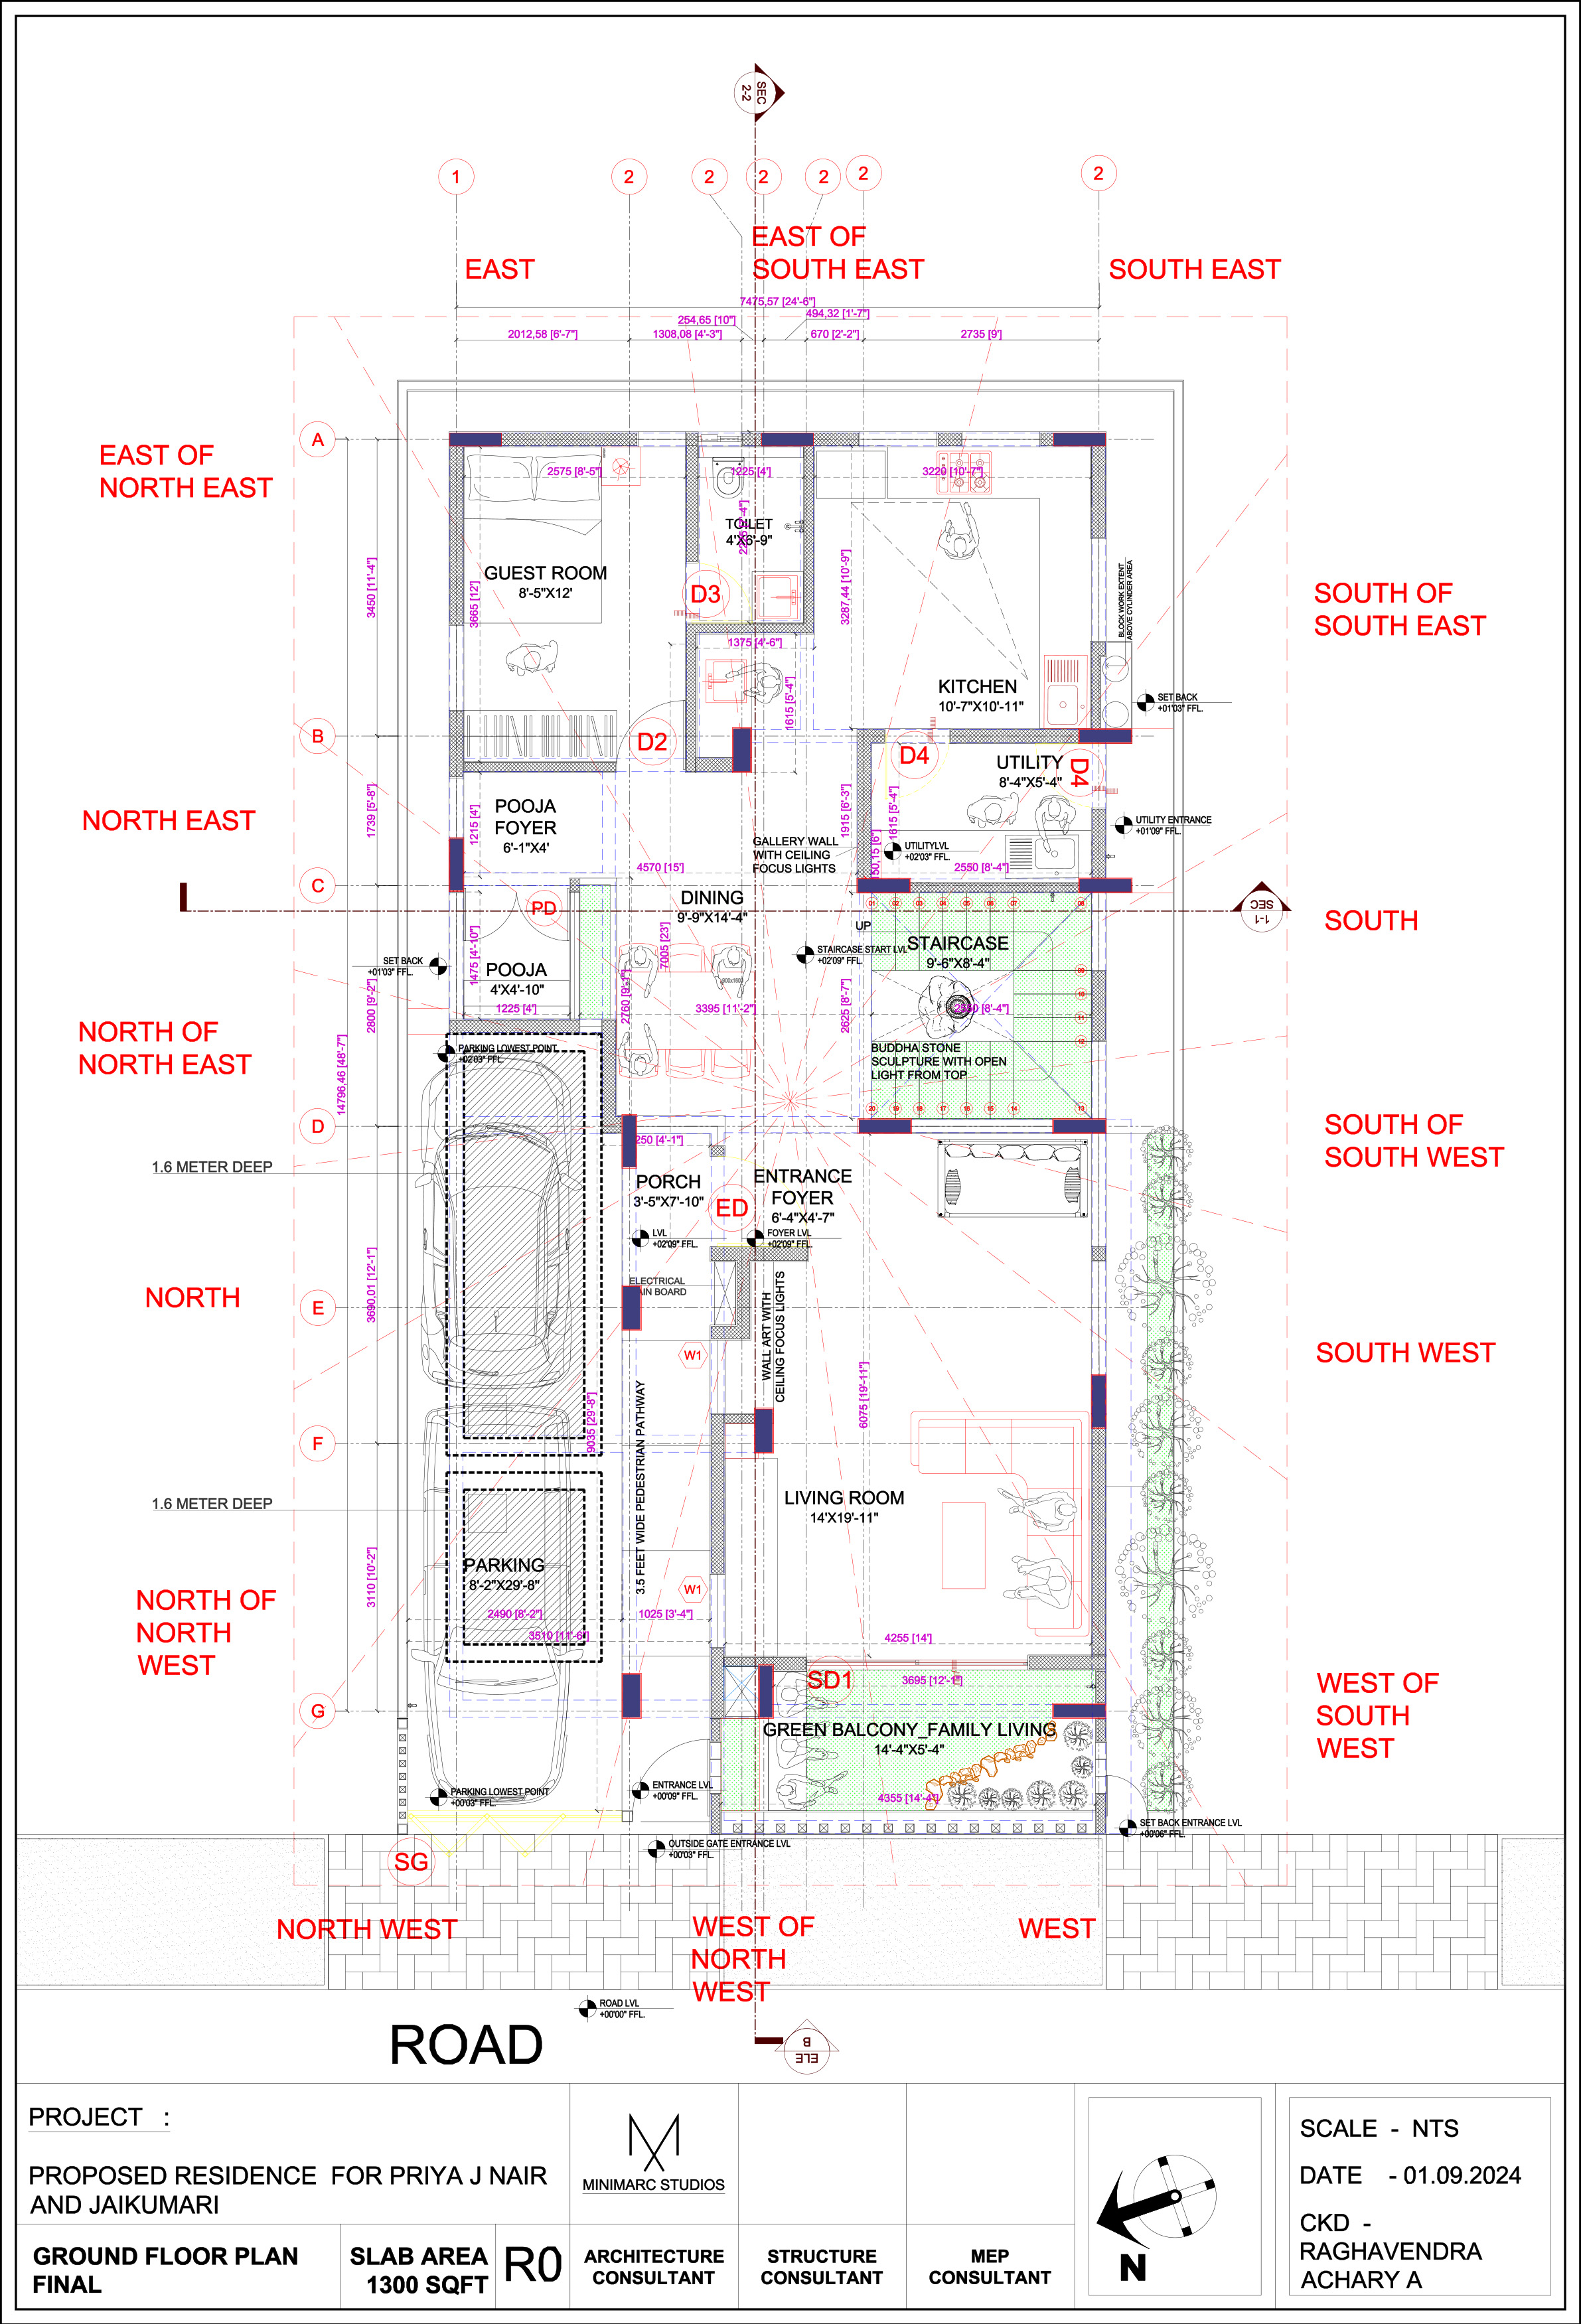door: (710, 1151, 814, 1251), (627, 1737, 715, 1819), (1033, 741, 1107, 810), (615, 697, 688, 766), (883, 729, 951, 803), (685, 556, 753, 626), (461, 883, 517, 946), (517, 885, 571, 946)
